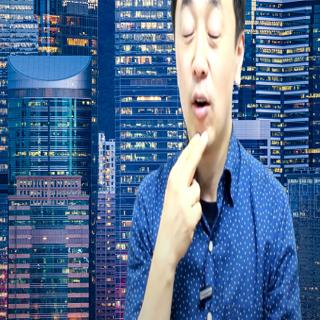DHAVE: (155, 128, 218, 263)
